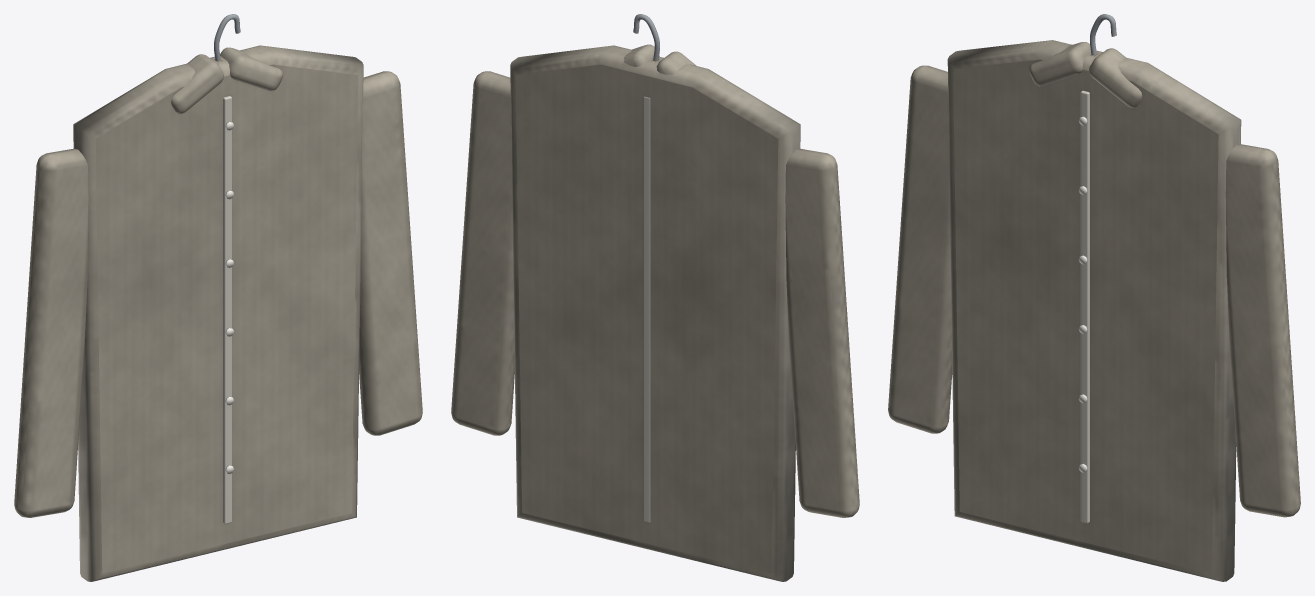
Rendered from ciuch_koszula.glb.
3 renders of one model, left to right at view 1: azimuth 30°, elevation 25°; view 2: azimuth 150°, elevation 25°; view 3: azimuth 330°, elevation 25°, orthographic.
Visible parts, largest first — view 1: TintTkanina, Wieszak; view 2: TintTkanina, Wieszak; view 3: TintTkanina, Wieszak.
Boxes of the visible parts, x1,y1,x2,y2 form: TintTkanina: (14,45,422,581); Wieszak: (214,14,240,523); TintTkanina: (451,44,859,581); Wieszak: (633,14,659,522); TintTkanina: (888,40,1300,581); Wieszak: (1078,14,1116,523).
Bounding box in the file's own units: 0.6153 × 0.7705 × 0.054.
5 materials, 1 textured.
